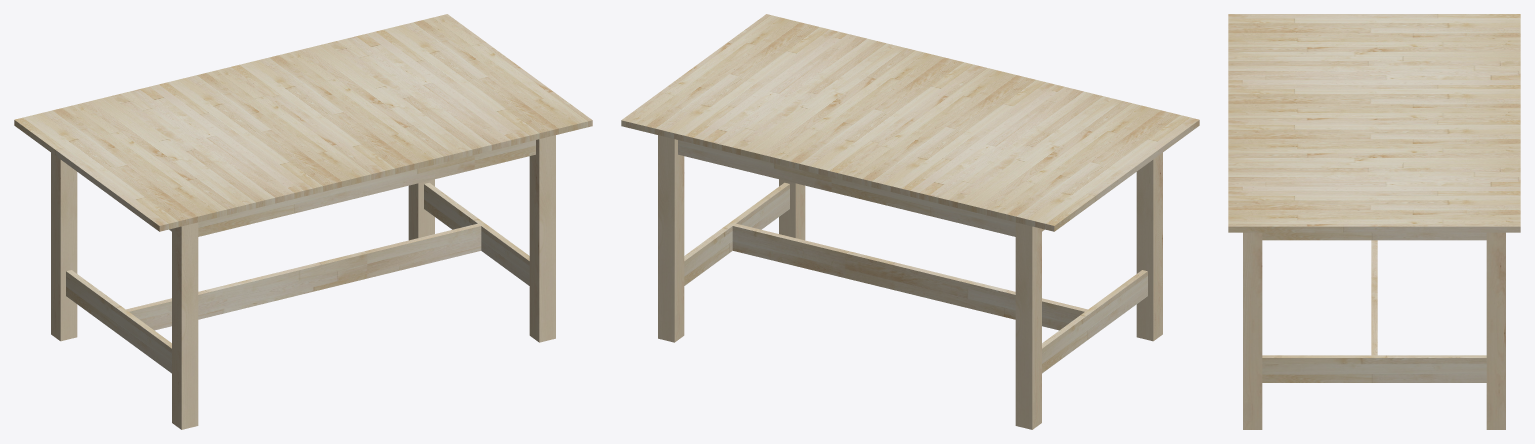
Rendered from table.dae.
3 views of the same model, side by side, from view 1: azimuth 30°, elevation 25°; view 2: azimuth 150°, elevation 25°; view 3: azimuth 270°, elevation 25° (orthographic).
Parts seen in each view (by area): view 1: Norden_tavolo_ripiano_77_5x90x2 (×2), Norden_tavolo_gamba_6x6x72 (×8), Norden_tavolo_traversa_centrale_126x8_5x2, Norden_tavolo_traversa_laterale_inferiore_69x8_5x2 (×2), Norden_tavolo_traversa_superiore_122x8_5x2; view 2: Norden_tavolo_ripiano_77_5x90x2 (×2), Norden_tavolo_gamba_6x6x72 (×8), Norden_tavolo_traversa_centrale_126x8_5x2, Norden_tavolo_traversa_laterale_inferiore_69x8_5x2 (×2), Norden_tavolo_traversa_superiore_122x8_5x2; view 3: Norden_tavolo_ripiano_77_5x90x2 (×2), Norden_tavolo_gamba_6x6x72 (×2), Norden_tavolo_traversa_laterale_inferiore_69x8_5x2, Norden_tavolo_traversa_laterale_69x8_5x2, Norden_tavolo_traversa_centrale_126x8_5x2.
Part boxes in pixels (box(x1,y1,x2,y2)): Norden_tavolo_ripiano_77_5x90x2 (×2): box(14, 14, 592, 231); Norden_tavolo_gamba_6x6x72 (×8): box(51, 135, 555, 429); Norden_tavolo_traversa_centrale_126x8_5x2: box(126, 223, 481, 330); Norden_tavolo_traversa_laterale_inferiore_69x8_5x2 (×2): box(66, 182, 529, 373); Norden_tavolo_traversa_superiore_122x8_5x2: box(198, 140, 535, 236); Norden_tavolo_ripiano_77_5x90x2 (×2): box(621, 14, 1199, 231); Norden_tavolo_gamba_6x6x72 (×8): box(658, 135, 1162, 429); Norden_tavolo_traversa_centrale_126x8_5x2: box(732, 223, 1087, 330); Norden_tavolo_traversa_laterale_inferiore_69x8_5x2 (×2): box(684, 182, 1147, 373); Norden_tavolo_traversa_superiore_122x8_5x2: box(678, 140, 1015, 236); Norden_tavolo_ripiano_77_5x90x2 (×2): box(1228, 14, 1520, 232); Norden_tavolo_gamba_6x6x72 (×2): box(1243, 232, 1505, 429); Norden_tavolo_traversa_laterale_inferiore_69x8_5x2: box(1262, 355, 1486, 382); Norden_tavolo_traversa_laterale_69x8_5x2: box(1262, 232, 1486, 240); Norden_tavolo_traversa_centrale_126x8_5x2: box(1371, 240, 1377, 355).
Bounding box in the file's own units: 61.02 × 35.43 × 29.13.
4 materials, 4 textured.
